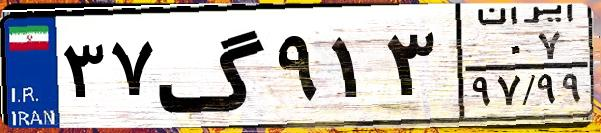0: (508, 27, 537, 80)
1: (330, 28, 385, 110)
3: (385, 28, 445, 110), (57, 26, 110, 100)
7: (110, 28, 156, 98), (537, 27, 568, 80), (495, 70, 520, 125)
9: (270, 28, 330, 110), (560, 70, 590, 125), (470, 70, 495, 125), (535, 70, 560, 125)
گ: (156, 12, 270, 120)
